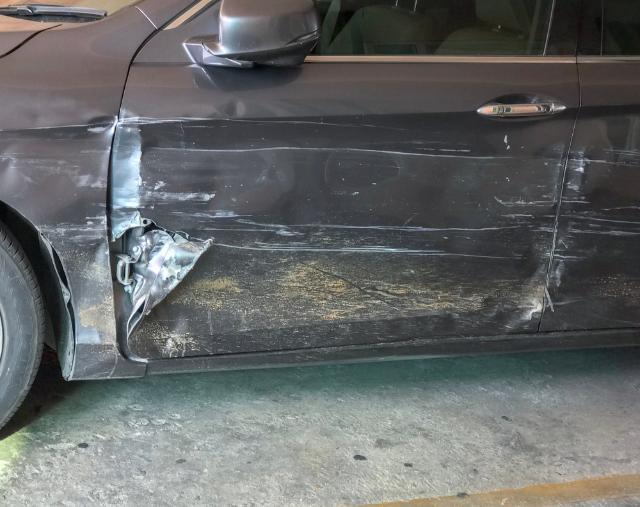dent: (110, 102, 515, 215), (544, 131, 640, 317), (0, 87, 115, 222), (487, 141, 566, 327), (31, 192, 115, 344)
scratch: (156, 201, 532, 263)
